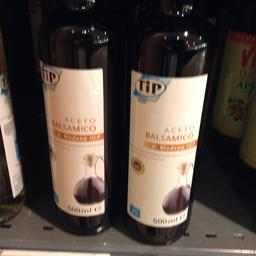vinegar: (125, 0, 216, 246), (34, 0, 119, 235)
